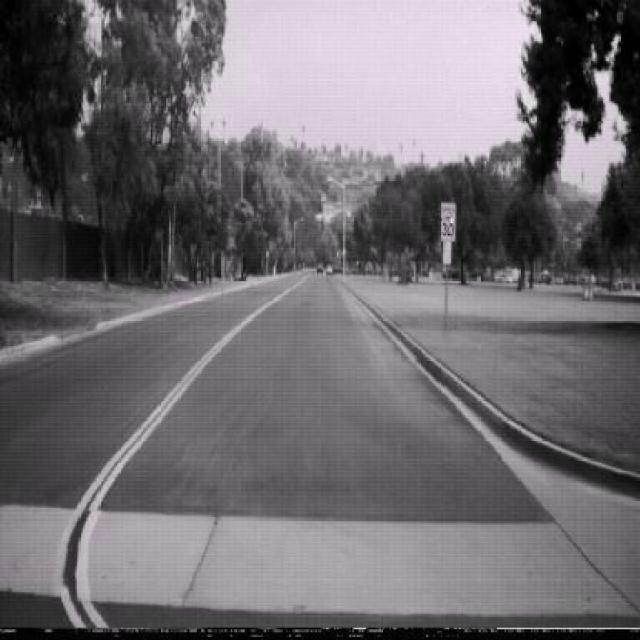speedLimit30: (438, 200, 456, 242)
